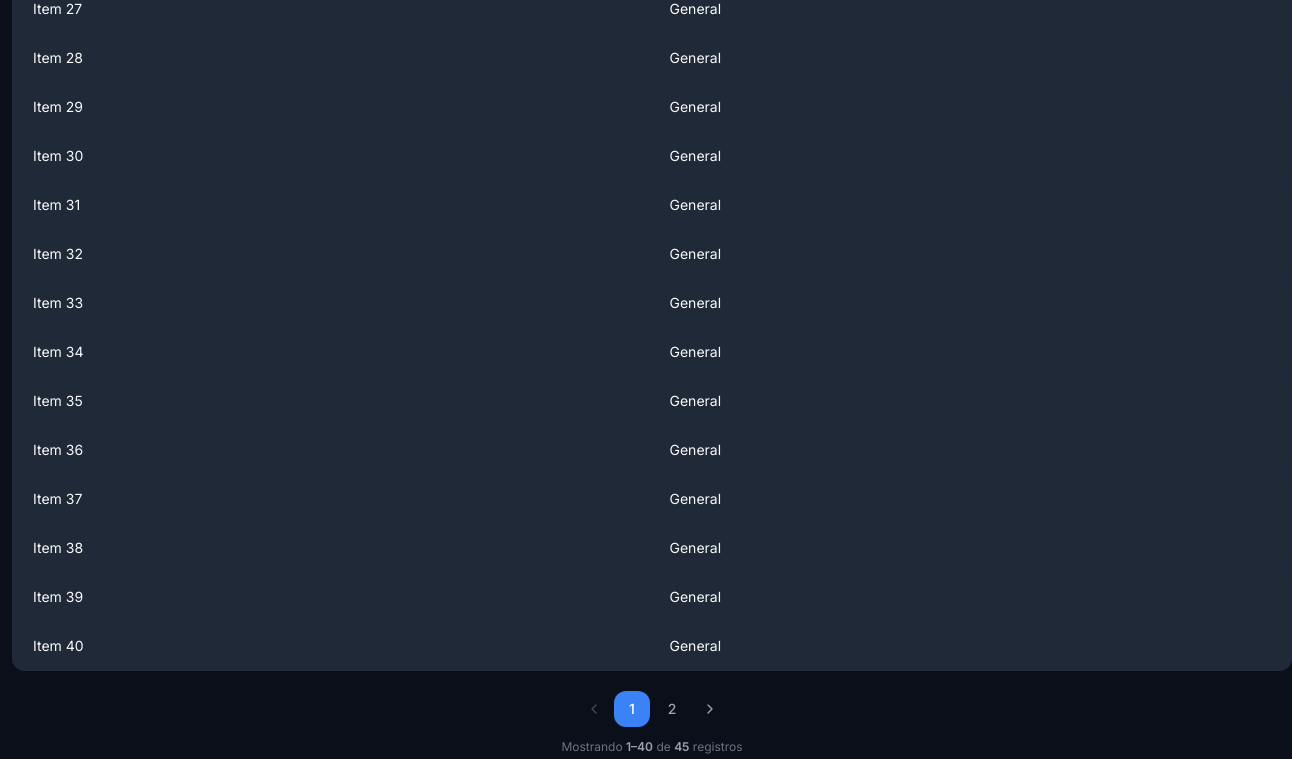
Test: DataTable › navega entre páginas con los controles de paginación
(page scrolled)
Click the button named "Página siguiente".
click(710, 709)  # box [694, 693, 726, 725]
(page scrolled)
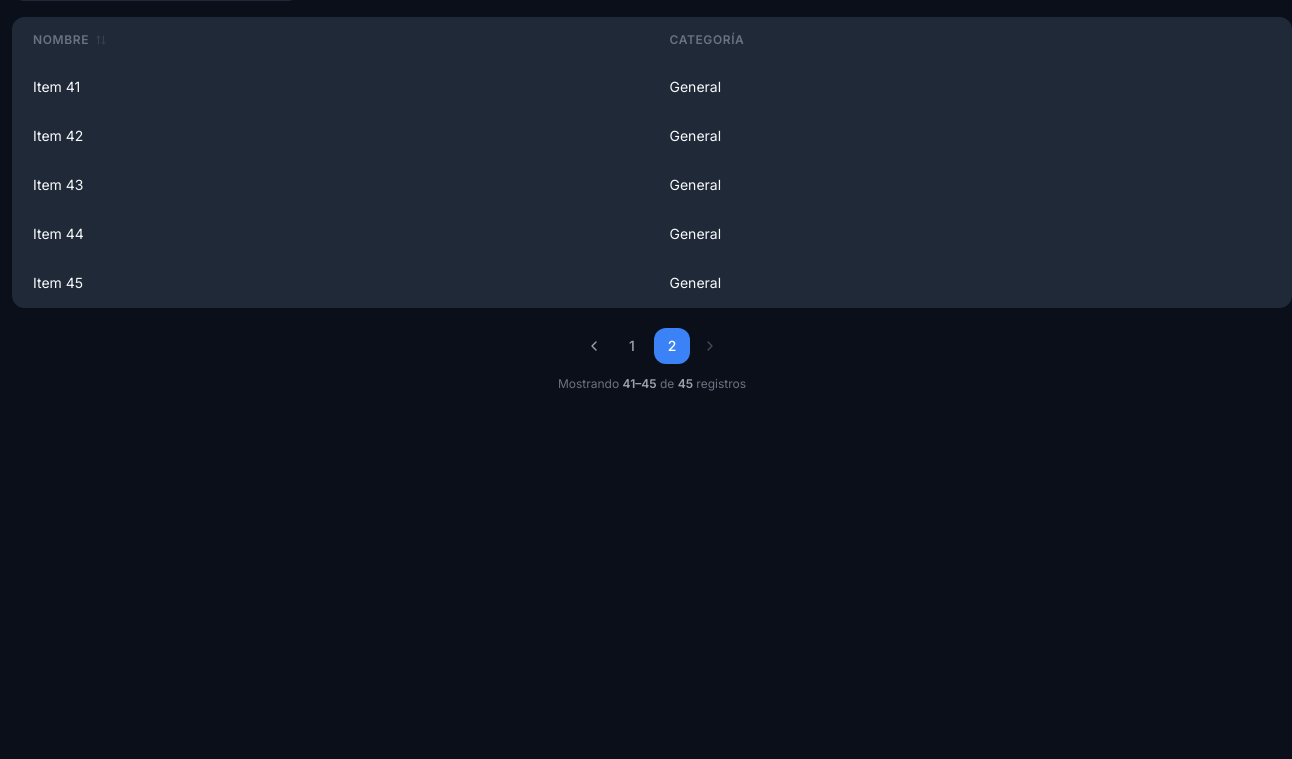
Check: the text "Item 1" is not shown
